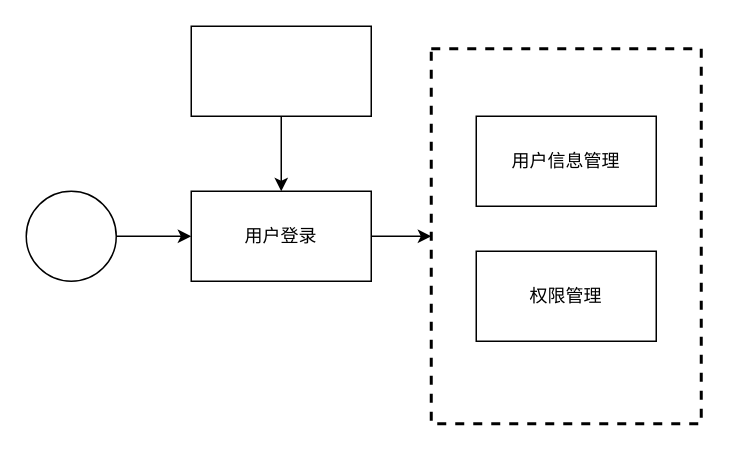
Some shapes in this 729 by 452 pixel diagram are drawn without their labels. Each missing label, with the centre of its shape:
"开始" goes at (x=70, y=235).
"用户认证" goes at (x=280, y=70).
